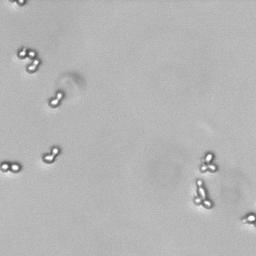budding: (199, 151, 218, 173), (41, 145, 61, 163), (48, 91, 64, 107), (1, 161, 22, 173), (241, 213, 256, 225)
cluster: (15, 45, 44, 75)
elongation: (193, 177, 214, 212)
